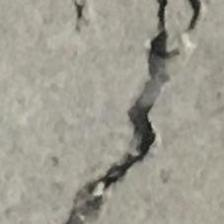Crack: (72, 0, 218, 224)
